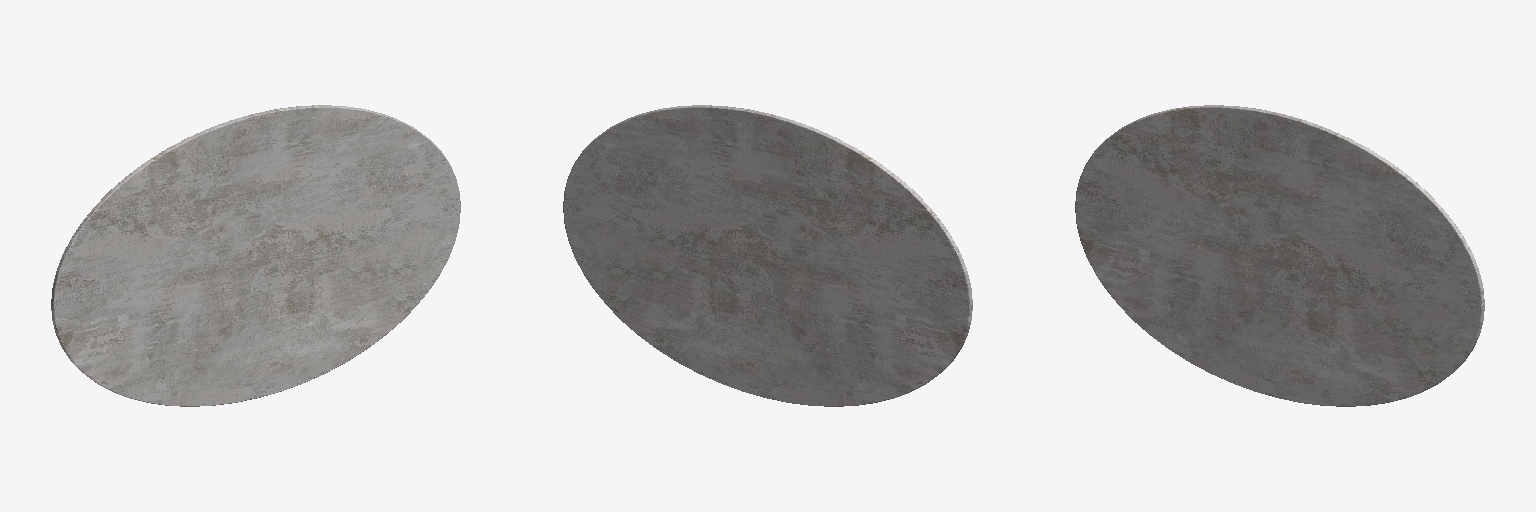
3 renders of one model, left to right at view 1: azimuth 30°, elevation 25°; view 2: azimuth 150°, elevation 25°; view 3: azimuth 330°, elevation 25°, orthographic.
Size of the model in its own units: 16.05 by 10.66 by 0.2.
Materials: 1 (1 with a texture image).